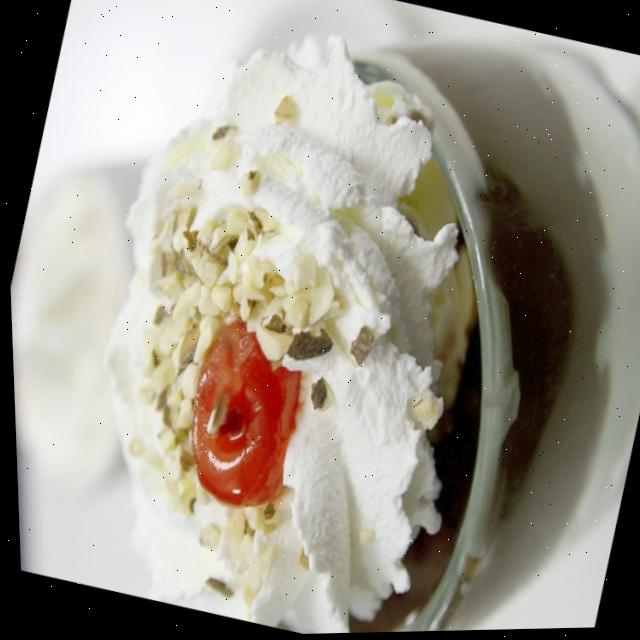蛋糕甜品: (17, 0, 603, 640)
